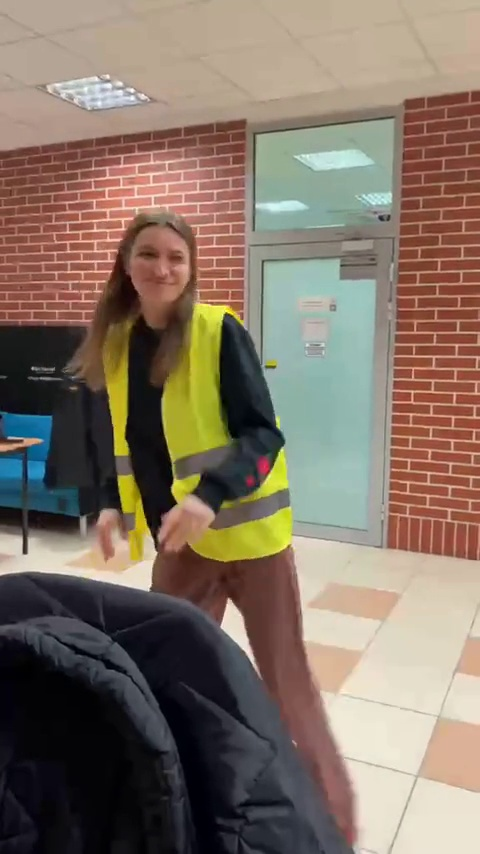vest: (80, 208, 336, 736)
